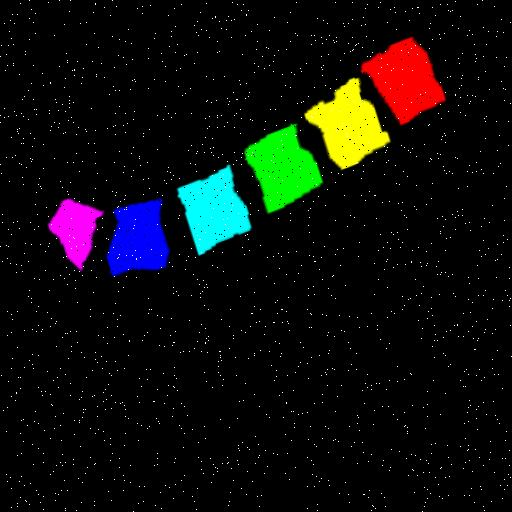L1: (359, 44, 444, 132)
L2: (302, 84, 389, 176)
L3: (242, 129, 321, 218)
L4: (175, 170, 249, 258)
L5: (105, 201, 167, 277)
S1: (46, 200, 101, 272)
